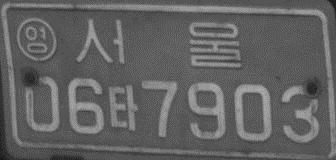0: (233, 82, 272, 142), (24, 73, 60, 132)
3: (281, 83, 320, 144)
6: (67, 77, 104, 135)
7: (141, 78, 177, 138)
9: (186, 82, 226, 140)
서울_D: (74, 17, 241, 70)
영: (14, 16, 57, 62)
타: (107, 83, 138, 131)
